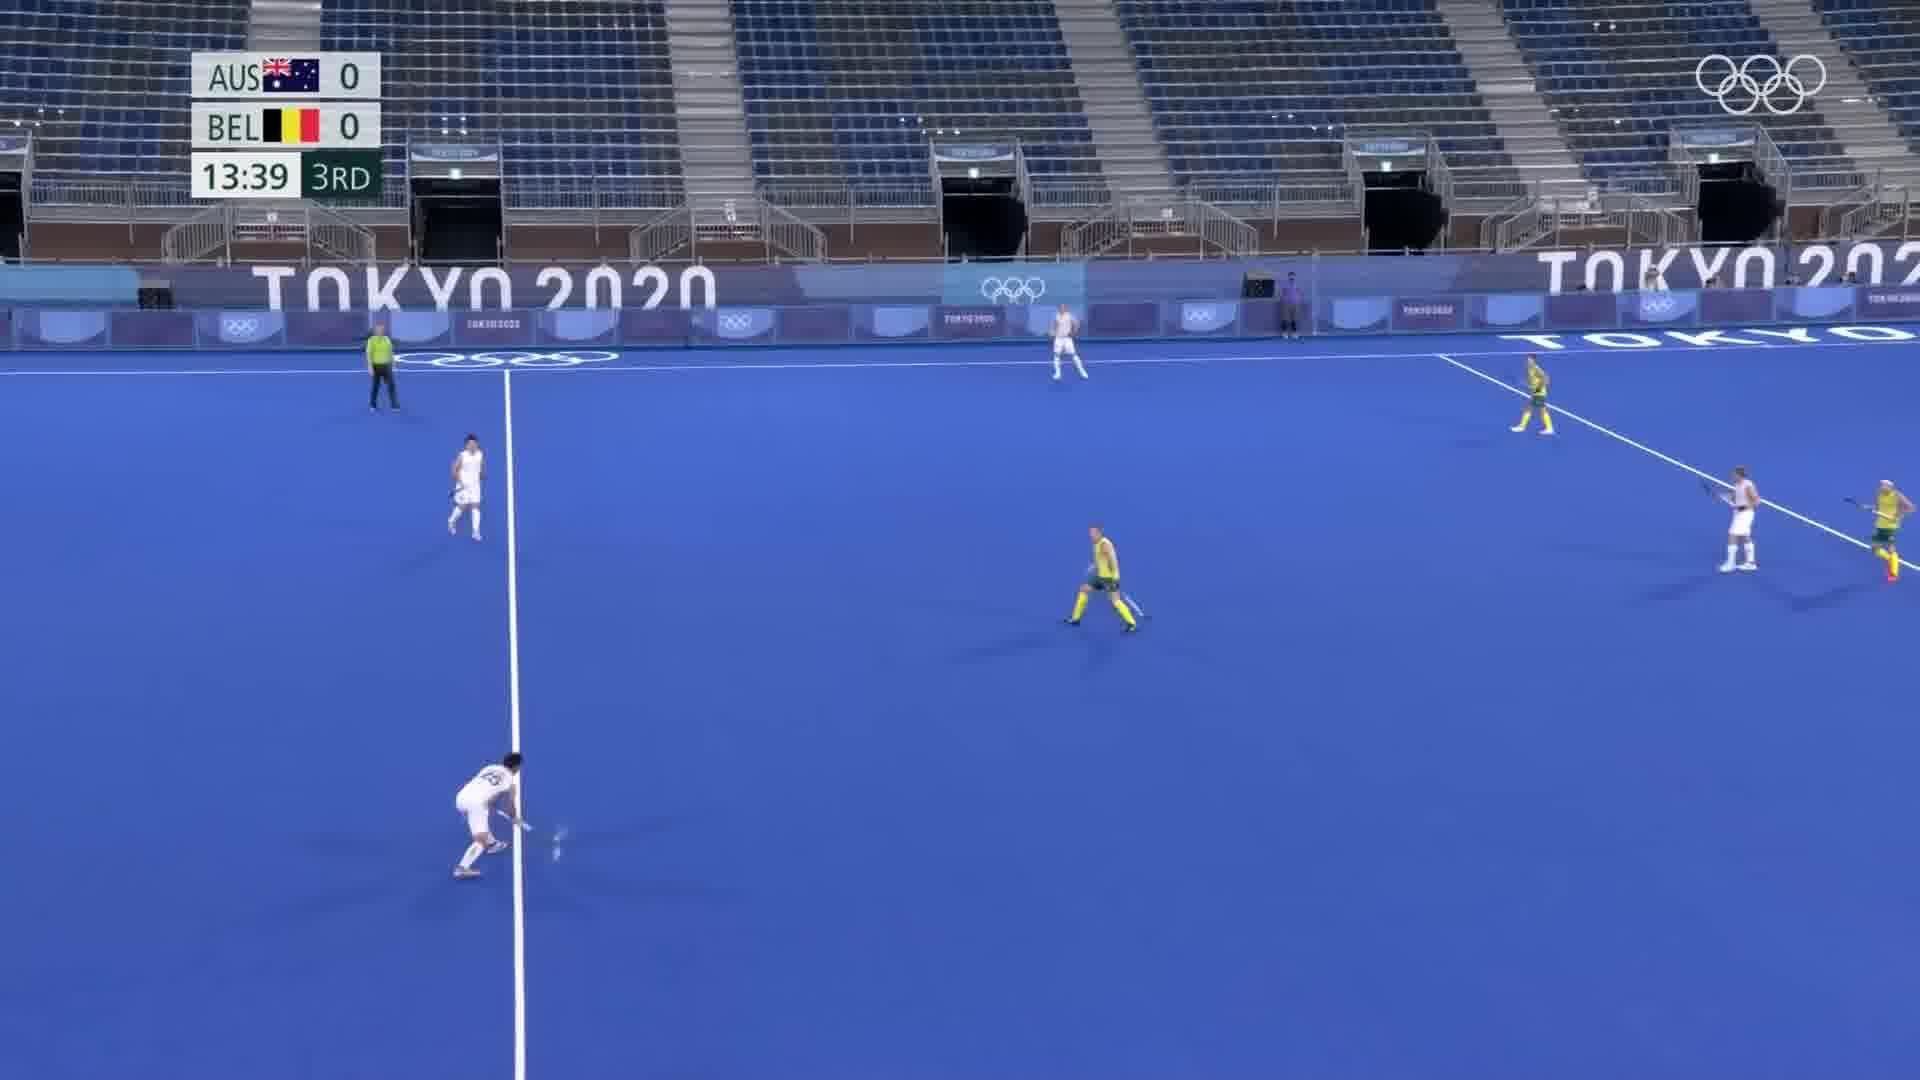ball: (550, 844, 570, 867)
